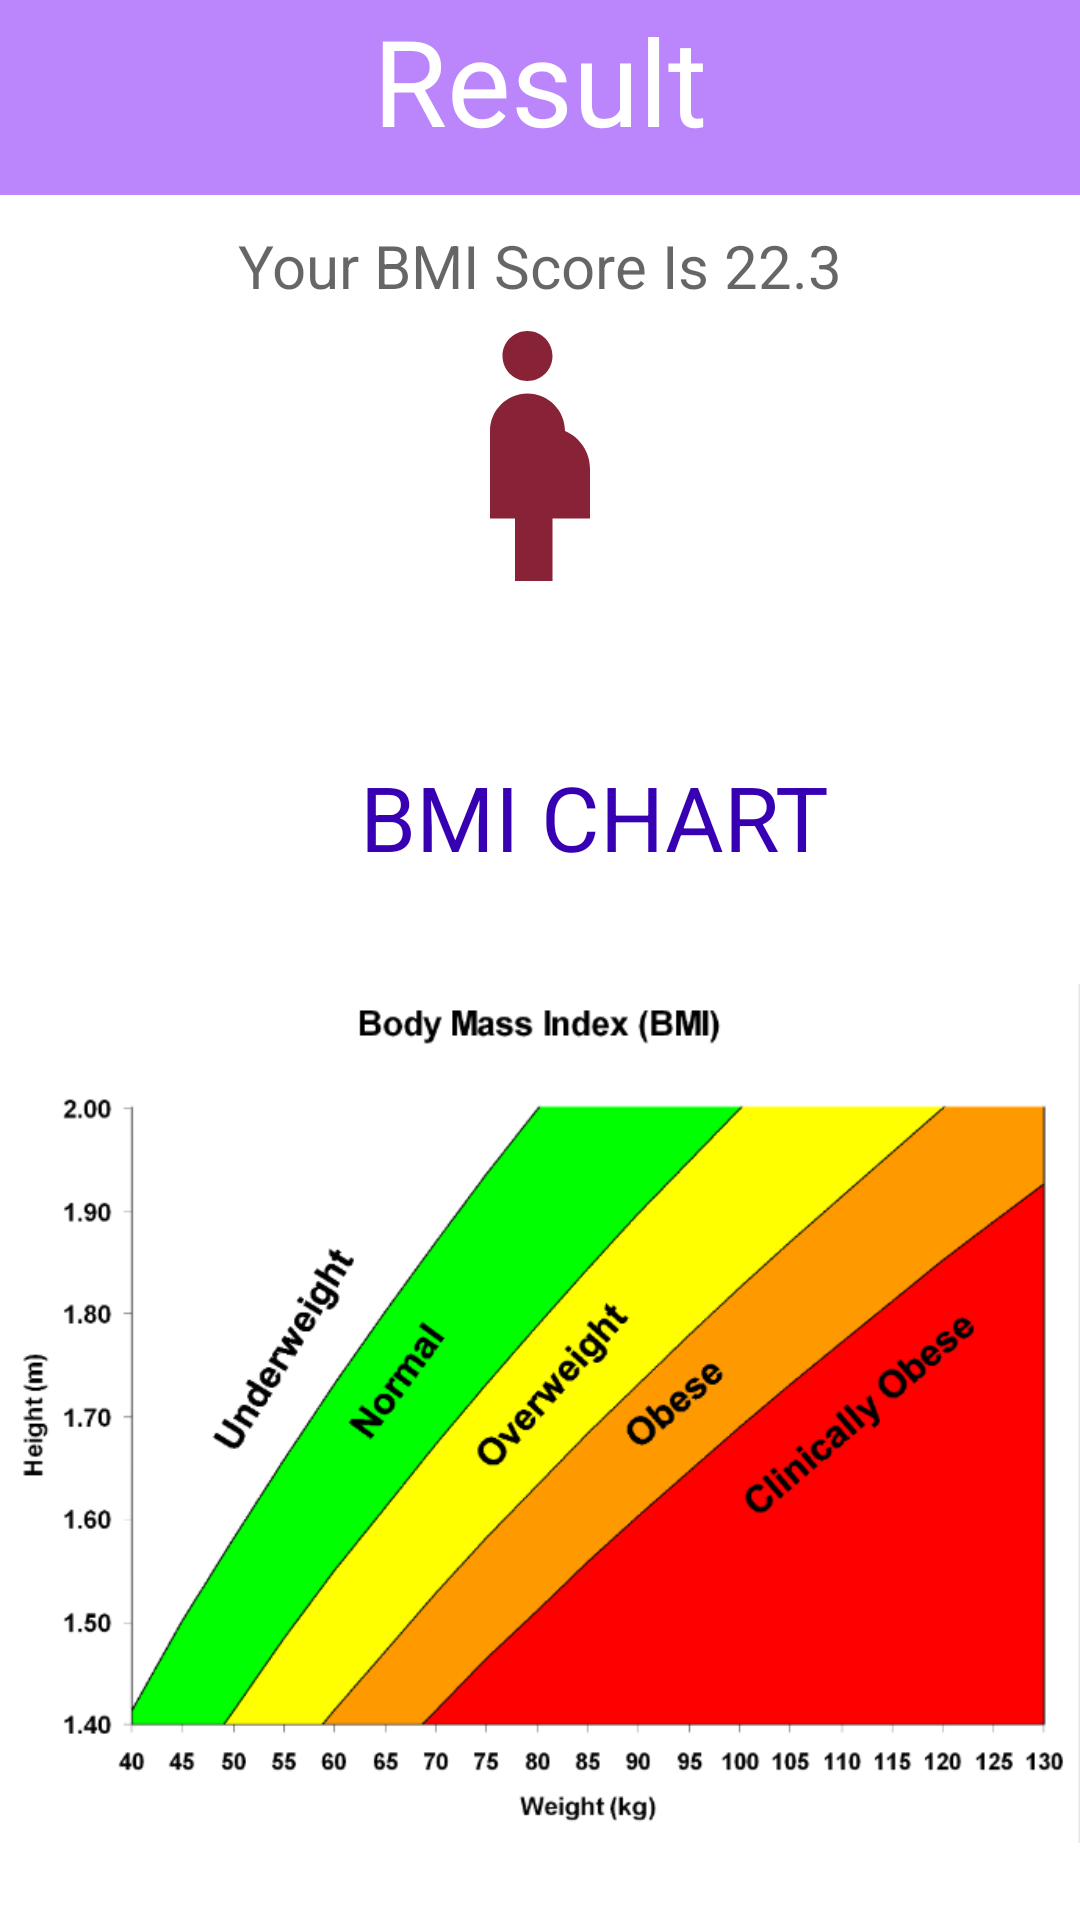

Icon click points for this 1080w x 1920h phone screenshot, format point (x, y):
pregnant woman: point (540, 456)
